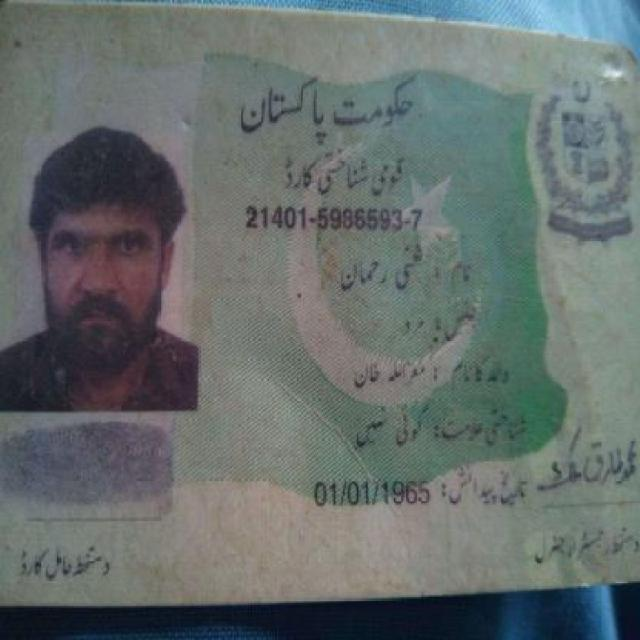Front: (6, 4, 634, 598)
